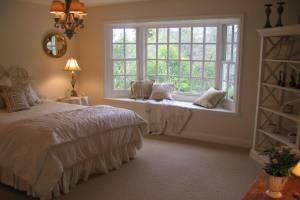window: (103, 21, 239, 111)
